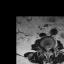CCS_normal: (46, 45, 48, 53)
LFS_stenosis: (50, 44, 52, 50)
LLS_normal: (48, 46, 50, 52)
RFS_severe_stenosis: (42, 45, 44, 51)
RLS_stenosis: (44, 46, 46, 52)
